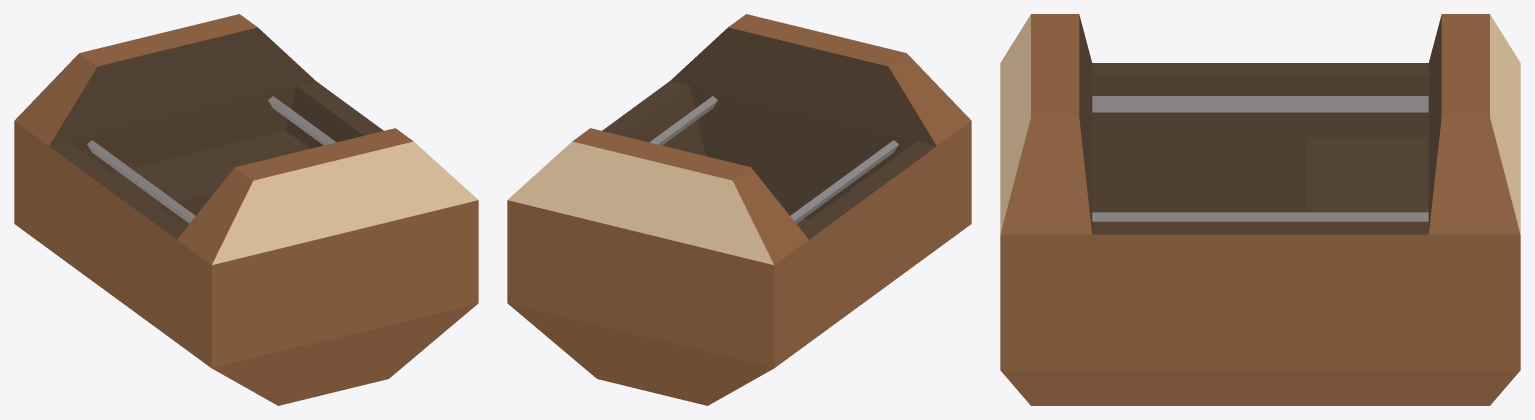
File: water-ride-cart.glb
3 views of the same model, side by side, from view 1: azimuth 30°, elevation 25°; view 2: azimuth 150°, elevation 25°; view 3: azimuth 270°, elevation 25° (orthographic). The views are drawn at different scales.
Parts seen in each view (by area): view 1: water-ride-cart; view 2: water-ride-cart; view 3: water-ride-cart.
Part boxes in pixels (left/top/right/bottom): water-ride-cart: left=14, top=14, right=478, bottom=405; water-ride-cart: left=507, top=14, right=971, bottom=405; water-ride-cart: left=1000, top=14, right=1520, bottom=405.
Bounding box in the file's own units: 1.33 × 1.1 × 1.7.
Materials: 1 (1 with a texture image).
